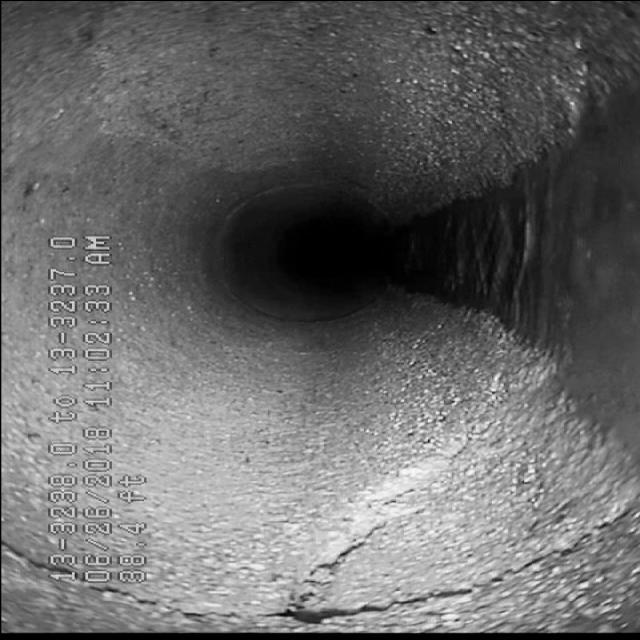Crack: (214, 442, 530, 628)
